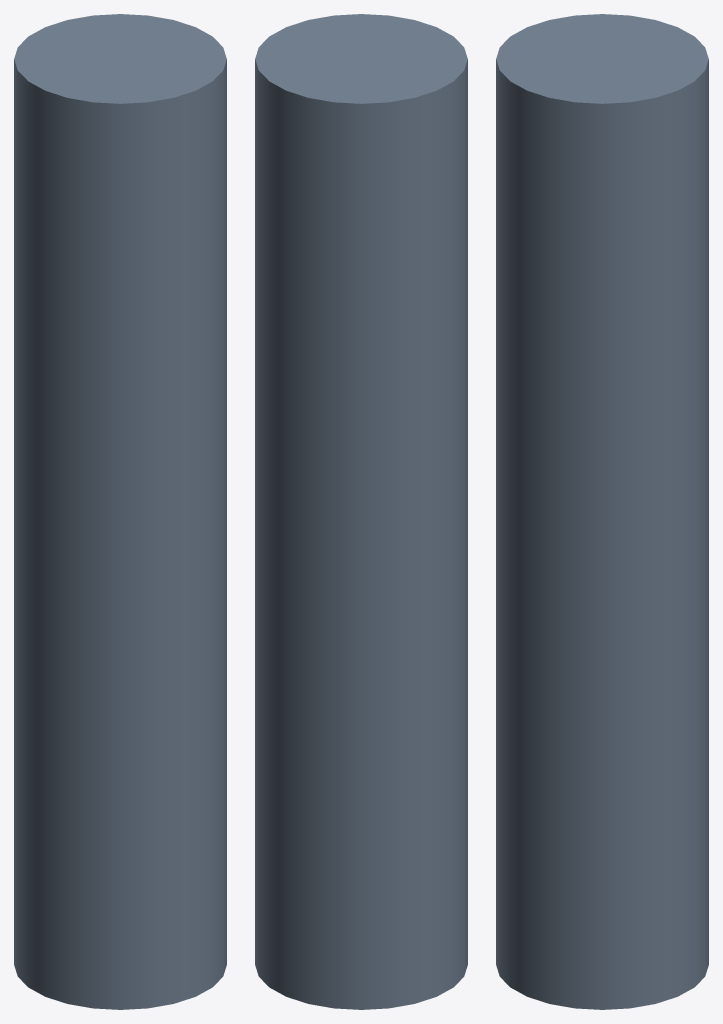
File: original-1.obj
3 renders of one model, left to right at view 1: azimuth 30°, elevation 25°; view 2: azimuth 150°, elevation 25°; view 3: azimuth 270°, elevation 25°, orthographic.
Parts seen in each view (by area): view 1: Group1/mesh1/mesh1-geometry#mesh1-geometry; view 2: Group1/mesh1/mesh1-geometry#mesh1-geometry; view 3: Group1/mesh1/mesh1-geometry#mesh1-geometry.
Boxes of the visible parts, x1,y1,x2,y2 form: Group1/mesh1/mesh1-geometry#mesh1-geometry: (14,14,226,1009); Group1/mesh1/mesh1-geometry#mesh1-geometry: (255,14,467,1009); Group1/mesh1/mesh1-geometry#mesh1-geometry: (496,14,708,1009).
Bounding box in the file's own units: 0.038 × 0.1786 × 0.038.
